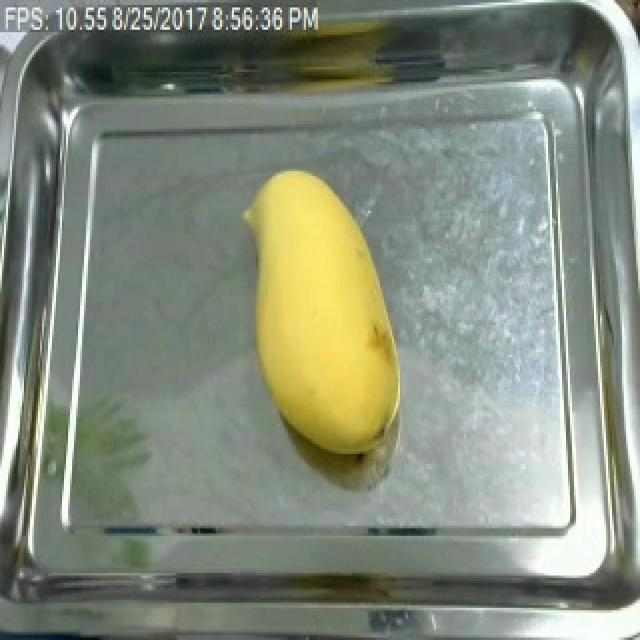fruit: (236, 162, 410, 472)
